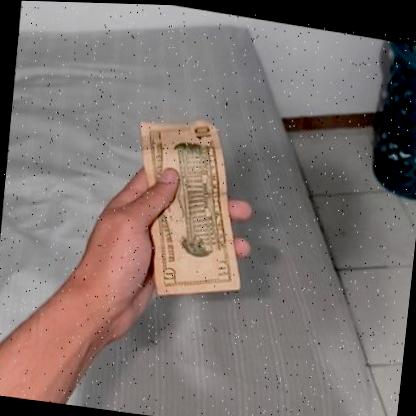ten-back: (116, 106, 260, 310)
